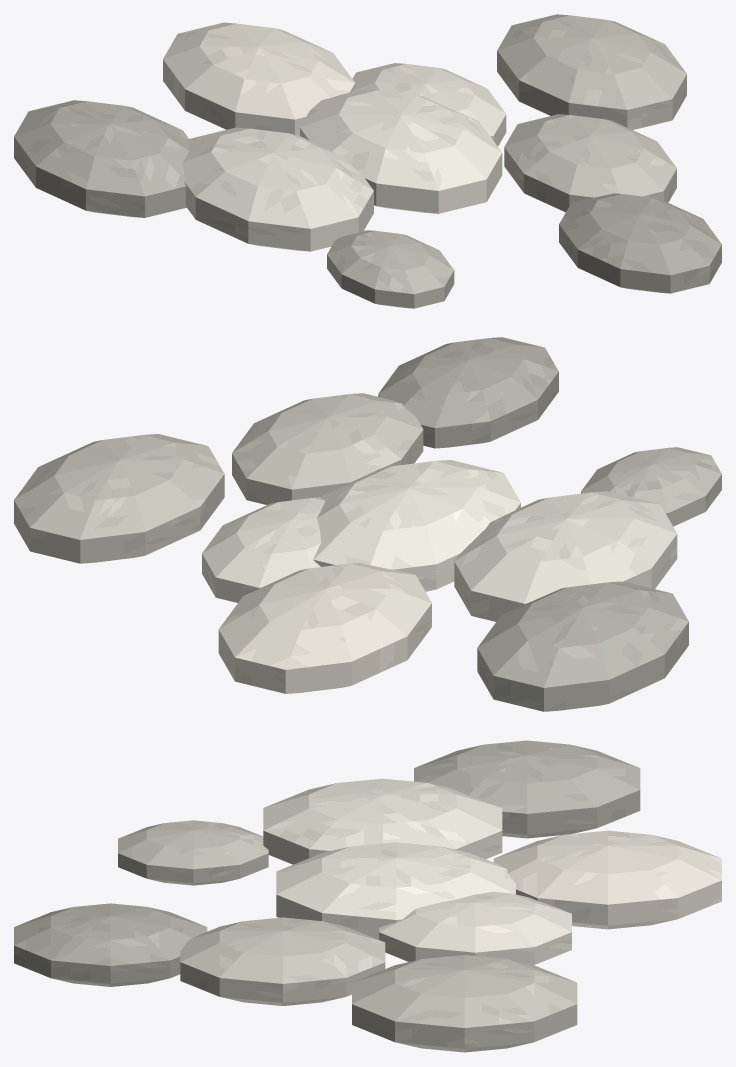
The model's file is seed_chili_pepper.glb.
3 views of the same model, one above another, from view 1: azimuth 30°, elevation 25°; view 2: azimuth 150°, elevation 25°; view 3: azimuth 270°, elevation 25° (orthographic). The views are drawn at different scales.
Parts seen in each view (by area): view 1: block_grain 2, block_grain 0, block_grain 6, block_grain 7, block_grain 4, block_grain 8, block_grain 3, block_grain 5, block_grain 1; view 2: block_grain 4, block_grain 7, block_grain 6, block_grain 2, block_grain 0, block_grain 3, block_grain 8, block_grain 1, block_grain 5; view 3: block_grain 6, block_grain 4, block_grain 7, block_grain 2, block_grain 0, block_grain 3, block_grain 8, block_grain 1, block_grain 5.
Part boxes in pixels (x1,y1,x2,y2): block_grain 2: (183,127,373,251); block_grain 0: (300,89,502,213); block_grain 6: (497,14,686,129); block_grain 7: (14,100,189,217); block_grain 4: (163,22,355,135); block_grain 8: (559,193,721,293); block_grain 3: (504,114,676,212); block_grain 5: (327,230,454,308); block_grain 1: (352,63,506,146); block_grain 4: (218,562,431,693); block_grain 7: (477,581,688,711); block_grain 6: (14,434,224,563); block_grain 2: (454,491,677,621); block_grain 0: (313,460,520,591); block_grain 3: (232,393,423,504); block_grain 8: (378,337,558,448); block_grain 1: (202,497,324,602); block_grain 5: (581,447,721,526); block_grain 6: (352,955,577,1052); block_grain 4: (493,830,721,929); block_grain 7: (414,740,640,838); block_grain 2: (263,778,502,864); block_grain 0: (276,842,515,939); block_grain 3: (180,917,385,1005); block_grain 8: (14,903,207,986); block_grain 1: (379,891,571,964); block_grain 5: (118,820,268,885).
Size of the model in its own units: 0.0209 by 0.00247 by 0.022.
1 material, 1 textured.
